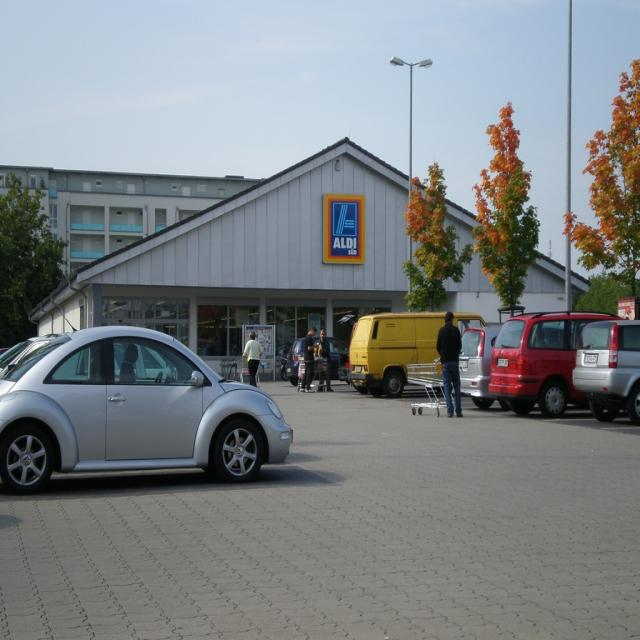aldi: (324, 197, 366, 265)
